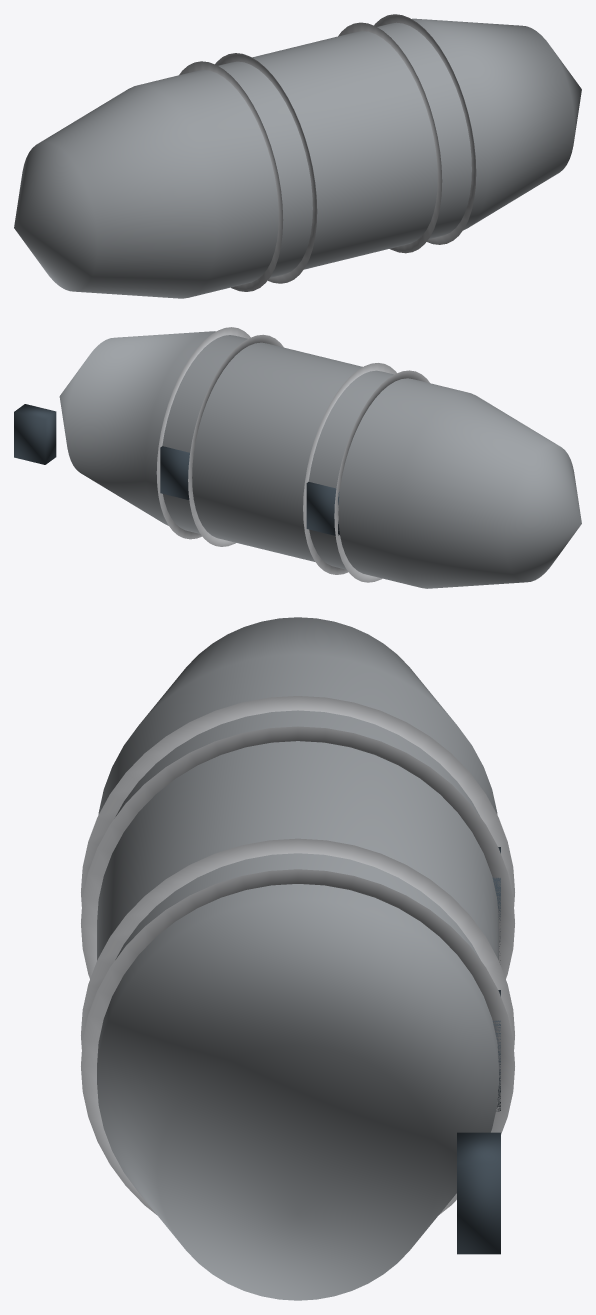
File: UK_DECOY_SSE_Mk3_LOD0.fbx
The picture shows the model from 3 angles, top to bottom: view 1: azimuth 30°, elevation 25°; view 2: azimuth 150°, elevation 25°; view 3: azimuth 270°, elevation 25°; orthographic projection. The views are drawn at different scales.
Visible parts, largest first — view 1: WPN_UK_DECOY_SSE_Mk3_LOD0_Body, WPN_UK_DECOY_SSE_Mk3_LOD0_Detail; view 2: WPN_UK_DECOY_SSE_Mk3_LOD0_Body, WPN_UK_DECOY_SSE_Mk3_LOD0_Detail, WPN_UK_DECOY_SSE_Mk3_LOD0_Seeker; view 3: WPN_UK_DECOY_SSE_Mk3_LOD0_Body, WPN_UK_DECOY_SSE_Mk3_LOD0_Detail, WPN_UK_DECOY_SSE_Mk3_LOD0_Seeker.
Boxes of the visible parts, x1=… form: WPN_UK_DECOY_SSE_Mk3_LOD0_Body: x1=14, y1=18, x2=581, y2=298; WPN_UK_DECOY_SSE_Mk3_LOD0_Detail: x1=179, y1=14, x2=476, y2=291; WPN_UK_DECOY_SSE_Mk3_LOD0_Body: x1=59, y1=331, x2=581, y2=588; WPN_UK_DECOY_SSE_Mk3_LOD0_Detail: x1=156, y1=327, x2=429, y2=582; WPN_UK_DECOY_SSE_Mk3_LOD0_Seeker: x1=14, y1=404, x2=339, y2=535; WPN_UK_DECOY_SSE_Mk3_LOD0_Body: x1=97, y1=617, x2=498, y2=1300; WPN_UK_DECOY_SSE_Mk3_LOD0_Detail: x1=81, y1=696, x2=514, y2=1214; WPN_UK_DECOY_SSE_Mk3_LOD0_Seeker: x1=457, y1=847, x2=500, y2=1254.
Bounding box in the file's own units: 0.6 × 0.216 × 0.216.
